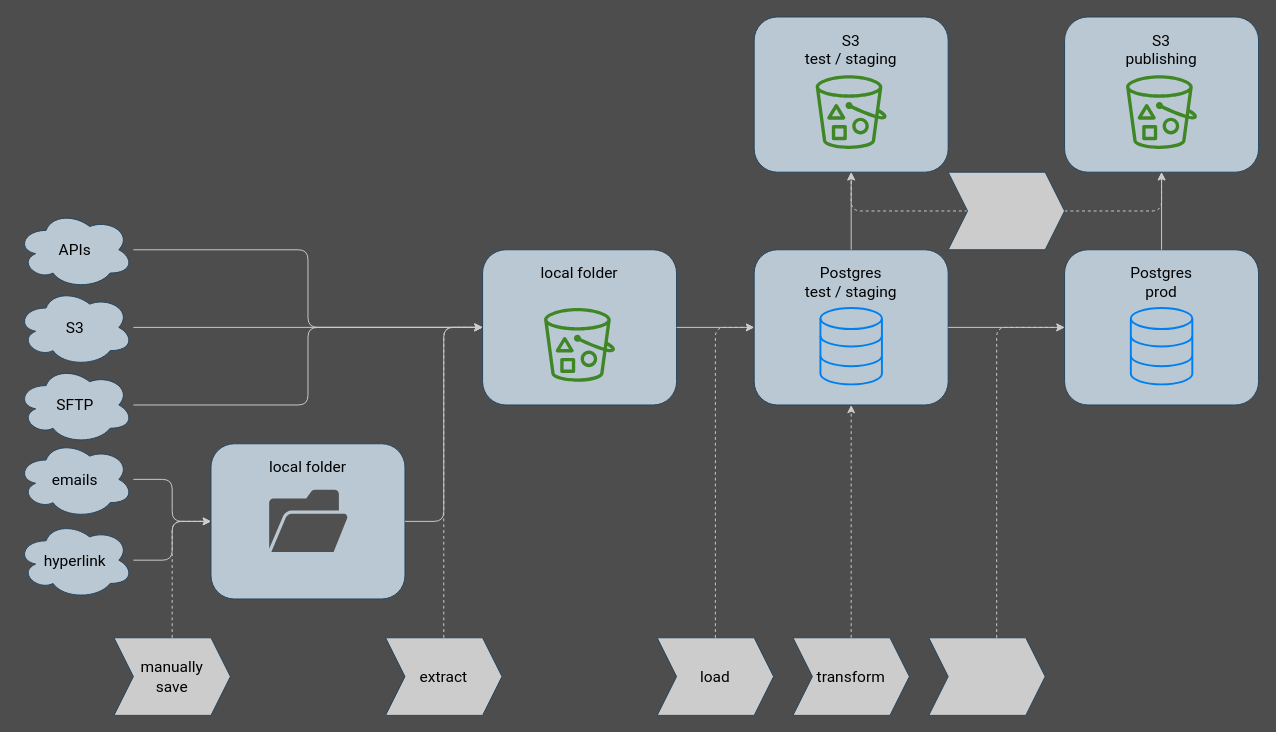
The diagram is 1276 pixels wide and 732 high, and some of its shapes have lost their labels. The centre of each missing label's shape, as x and y in pixels:
export: [1006,210]
promote: [986,676]
